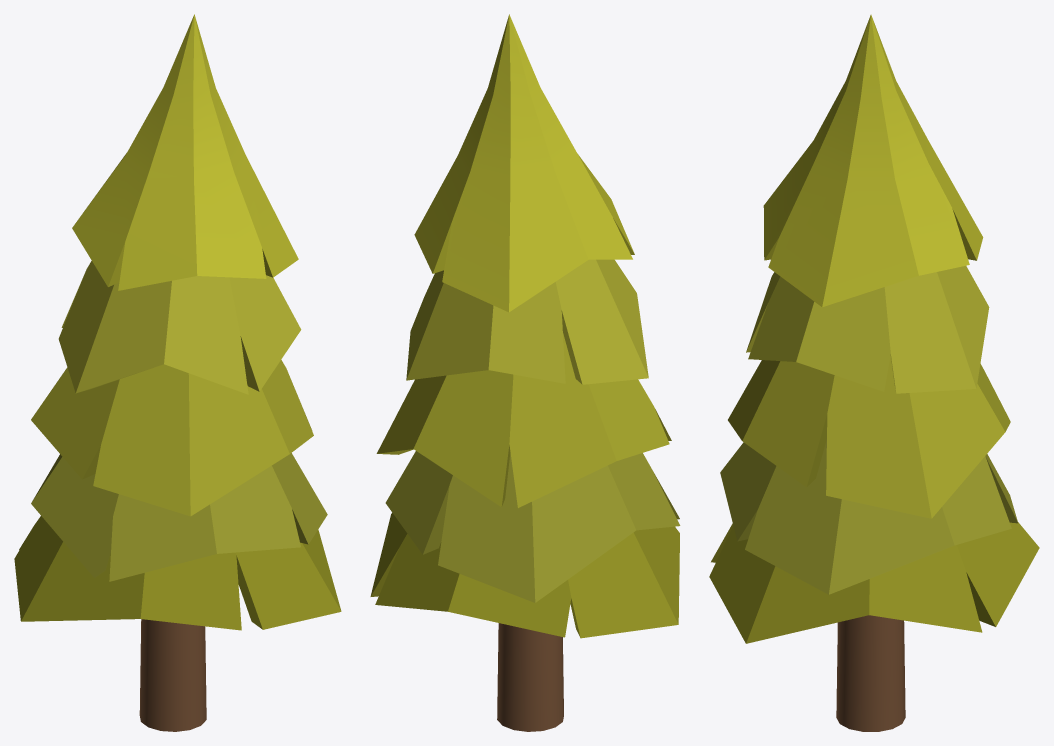
The model's file is Spruce_Yellow_Thin_1.fbx.
3 renders of one model, left to right at view 1: azimuth 30°, elevation 25°; view 2: azimuth 150°, elevation 25°; view 3: azimuth 270°, elevation 25°, orthographic. The views are drawn at different scales.
Parts seen in each view (by area): view 1: Cylinder.400, Cylinder.401, Cylinder.402, Cylinder.404, Cylinder.403, Cylinder.405; view 2: Cylinder.400, Cylinder.401, Cylinder.403, Cylinder.402, Cylinder.404, Cylinder.405; view 3: Cylinder.400, Cylinder.401, Cylinder.403, Cylinder.402, Cylinder.404, Cylinder.405.
Part boxes in pixels (x1,y1,x2,y2): Cylinder.400: [72, 14, 298, 290]; Cylinder.401: [31, 360, 313, 516]; Cylinder.402: [58, 261, 301, 394]; Cylinder.404: [14, 516, 341, 630]; Cylinder.403: [31, 453, 327, 581]; Cylinder.405: [139, 619, 206, 731]; Cylinder.400: [414, 14, 634, 312]; Cylinder.401: [376, 333, 671, 507]; Cylinder.403: [385, 451, 680, 602]; Cylinder.402: [406, 259, 648, 384]; Cylinder.404: [370, 512, 679, 638]; Cylinder.405: [497, 623, 563, 731]; Cylinder.400: [763, 14, 983, 307]; Cylinder.401: [728, 356, 1010, 518]; Cylinder.403: [720, 439, 1017, 594]; Cylinder.402: [746, 266, 989, 393]; Cylinder.404: [709, 522, 1039, 643]; Cylinder.405: [836, 615, 905, 731].
Size of the model in its own units: 247 by 567 by 238.
